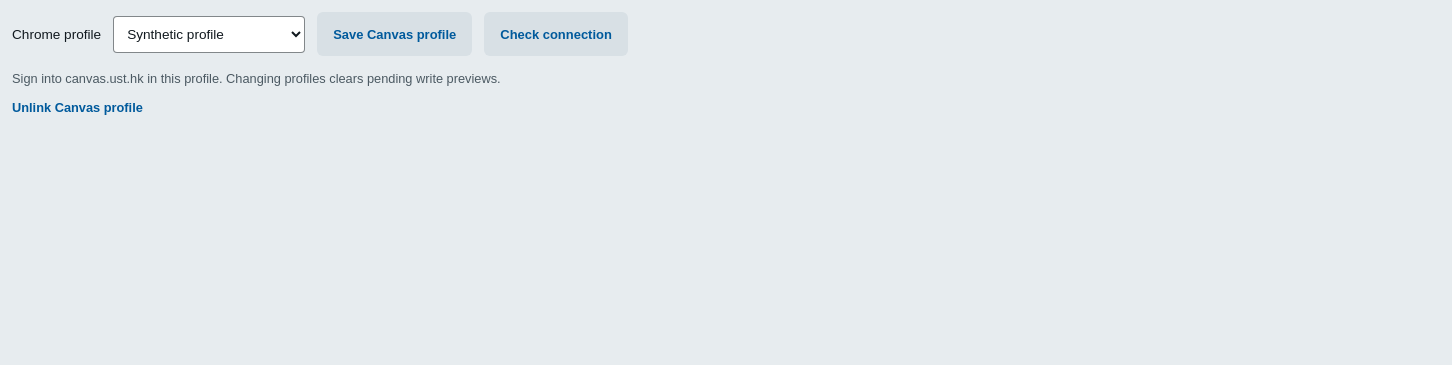
Test: Canvas unlink › does not imply success when unlink fails
This screenshot has width=1452, height=365.
Click the button "Unlink Canvas profile": (77, 107) [12, 89, 143, 125]
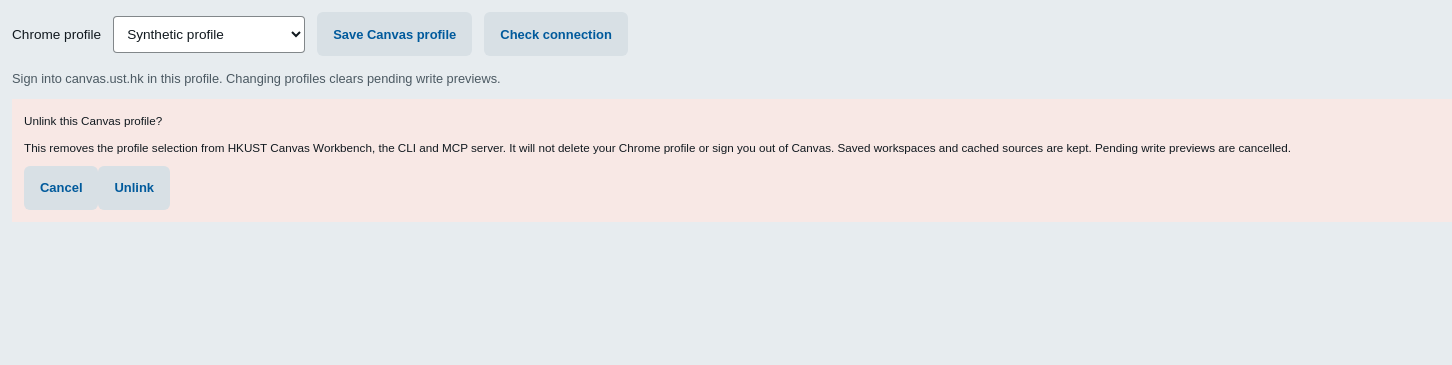
Click the button "Unlink": (134, 188) [98, 166, 170, 210]
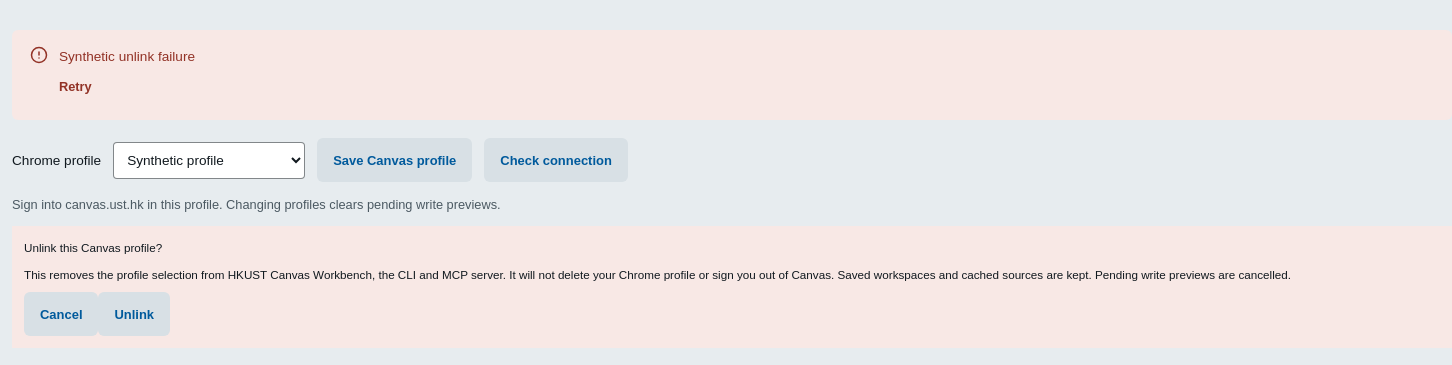
Expected: the dropdown shows "Synthetic profile", [113, 142, 305, 179]
Expected: the text "Synthetic unlink failure" is shown, [59, 46, 195, 68]
